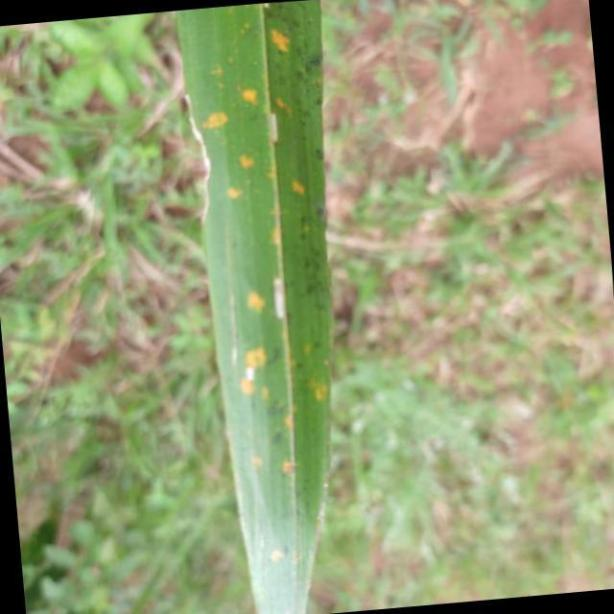Kalium: (176, 0, 331, 614)
